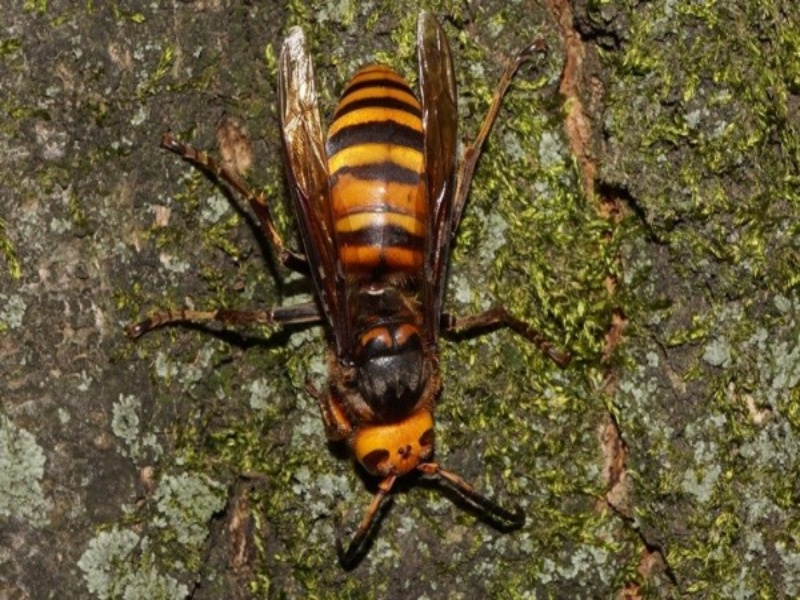asian_giant_hornet: (268, 12, 513, 524)
